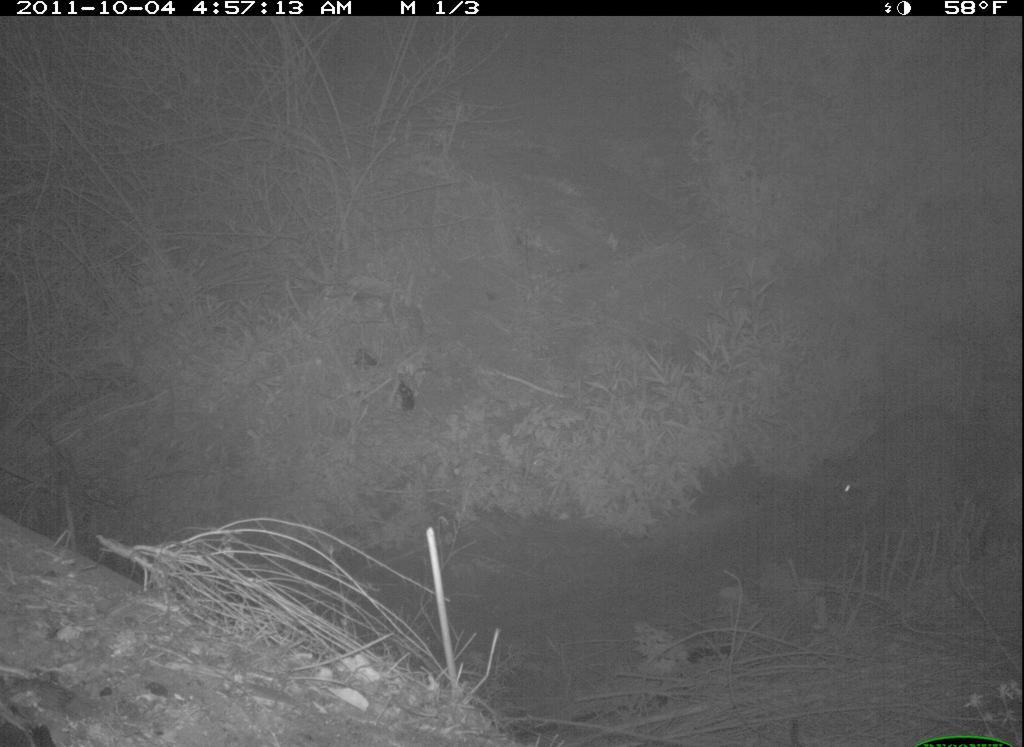raccoon: (821, 402, 987, 539)
